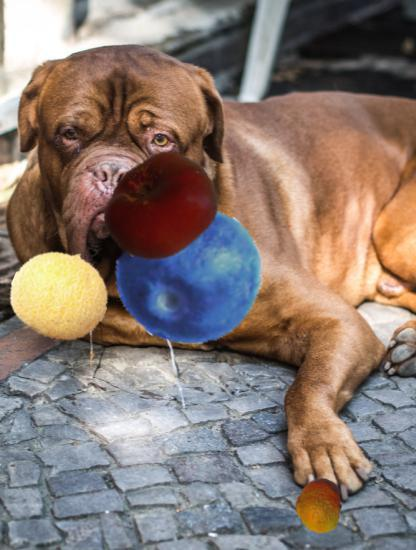Cantaloupe: (11, 245, 110, 344)
Huckleberry: (119, 203, 263, 347)
Mandarine: (291, 478, 347, 534)
Nectarine: (105, 151, 219, 265)
